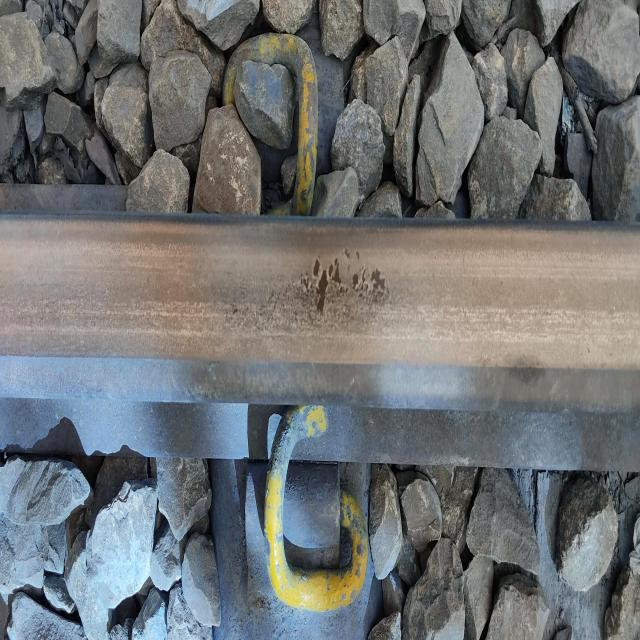Good Fasteners: (234, 397, 383, 617), (217, 40, 358, 214)
